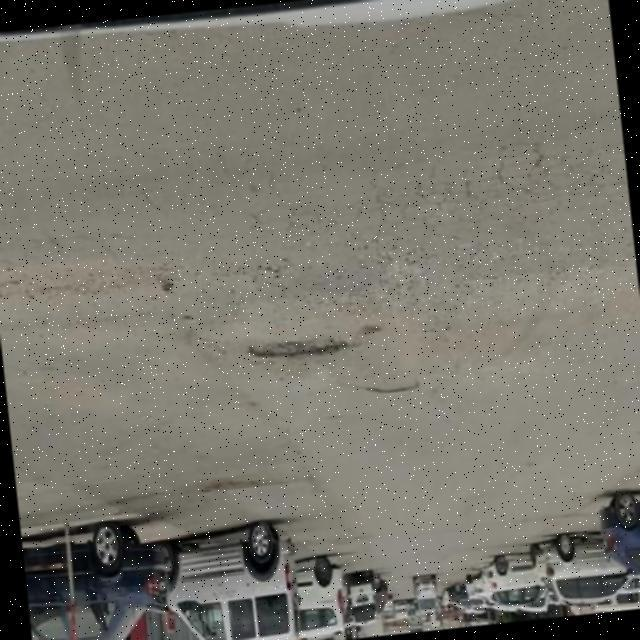Pothole: (246, 341, 353, 357)
